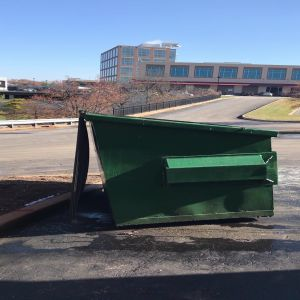Dumpster: (71, 109, 286, 228)
